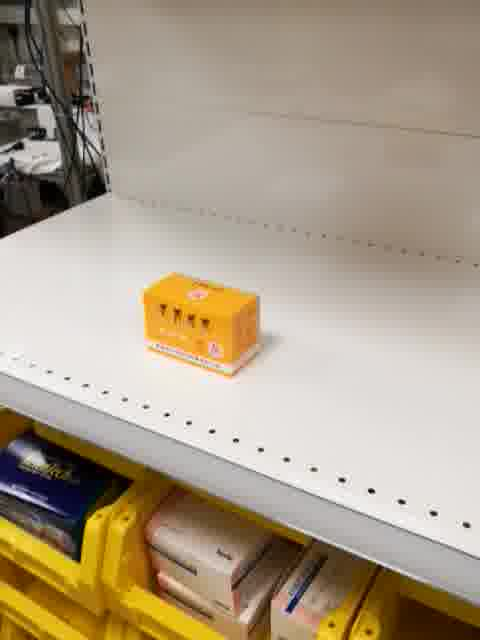jasminetea: (142, 268, 265, 377)
